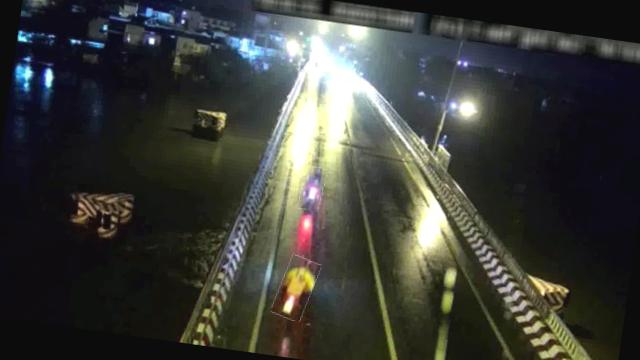Bike: (272, 253, 318, 322), (298, 165, 326, 212)
